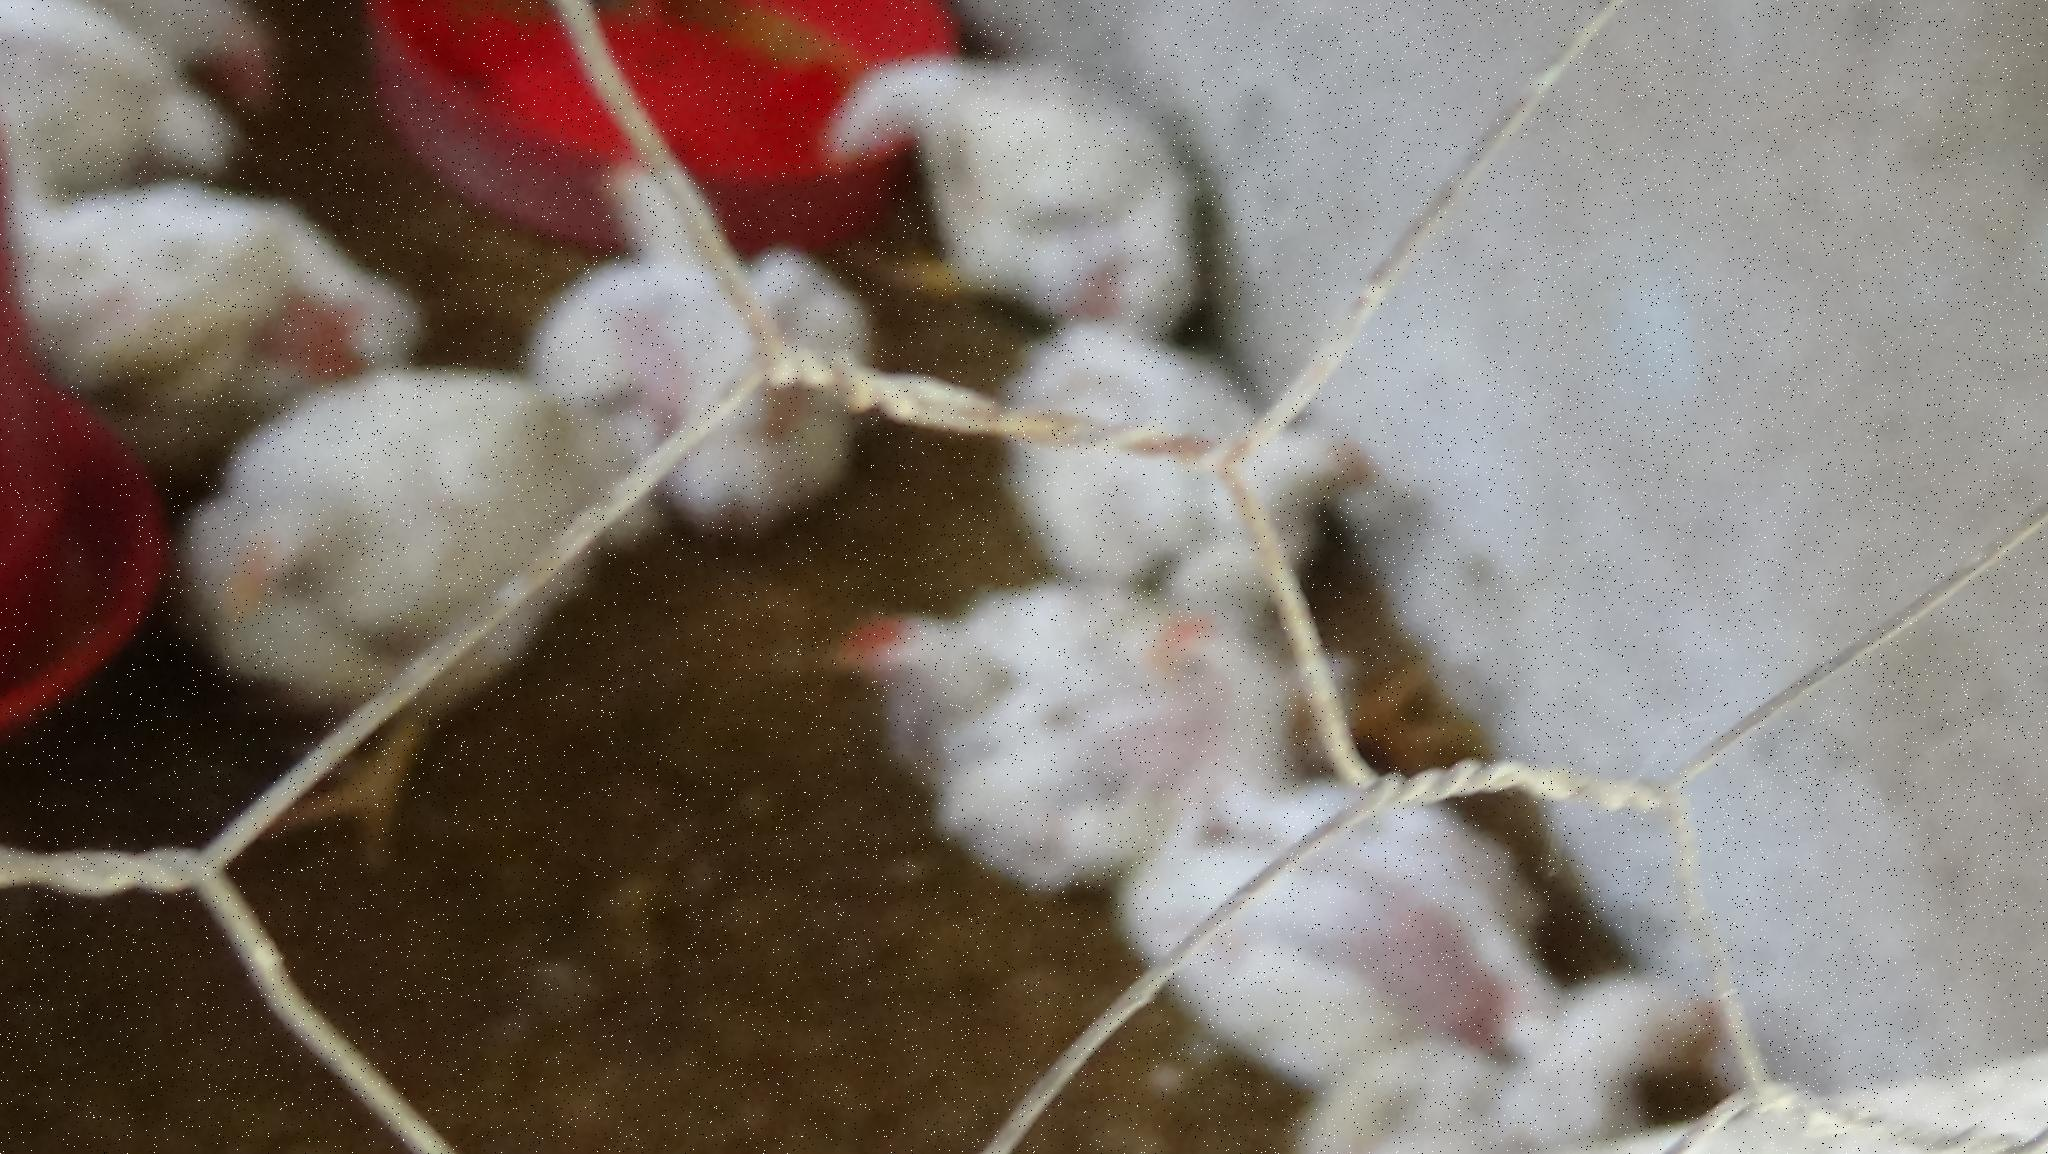Pollos: (170, 350, 580, 837), (565, 152, 859, 526), (1173, 728, 1532, 1030), (823, 37, 1212, 311), (833, 566, 1255, 804), (1013, 355, 1423, 580), (34, 234, 418, 393), (1544, 944, 1750, 1113), (167, 1, 300, 131)
